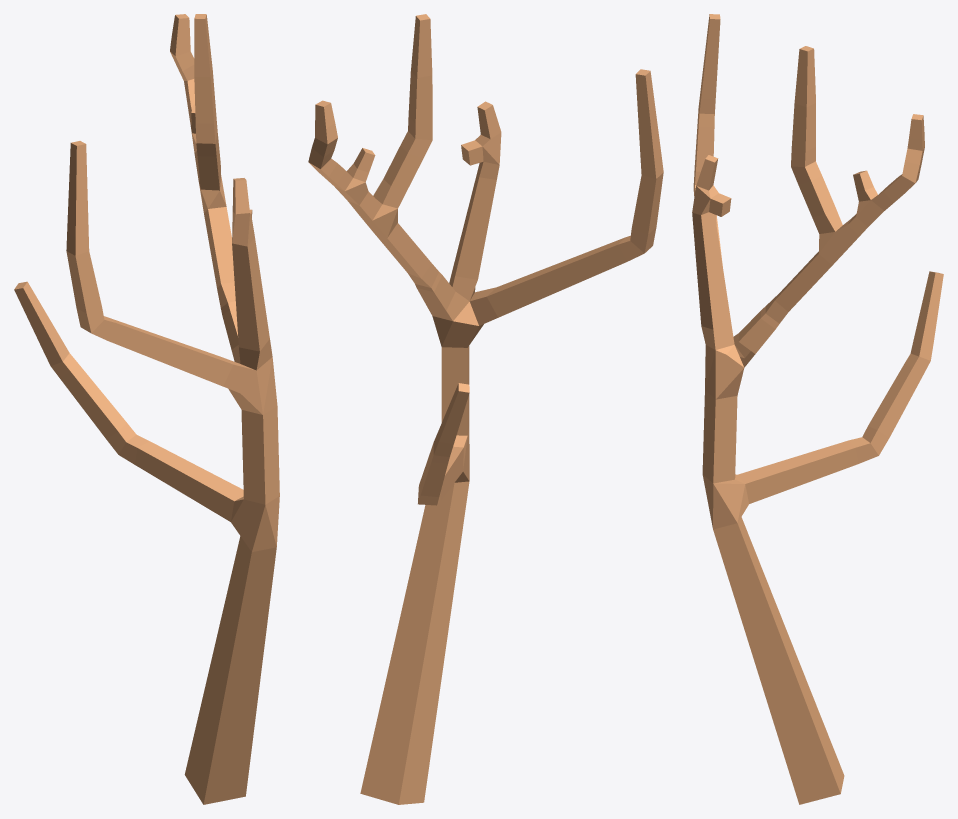
File: tree_4.glb
3 views of the same model, side by side, from view 1: azimuth 30°, elevation 25°; view 2: azimuth 150°, elevation 25°; view 3: azimuth 270°, elevation 25° (orthographic). The views are drawn at different scales.
Visible parts, largest first — view 1: twig_tree_4.001; view 2: twig_tree_4.001; view 3: twig_tree_4.001.
Boxes of the visible parts, box(x1,y1,x2,y2) form: twig_tree_4.001: box(14, 14, 279, 804); twig_tree_4.001: box(308, 14, 663, 804); twig_tree_4.001: box(692, 14, 943, 804).
Size of the model in its own units: 0.5631 by 1.76 by 0.5451.
Materials: 1 (1 with a texture image).
